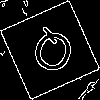Q: (25, 25, 79, 84)
